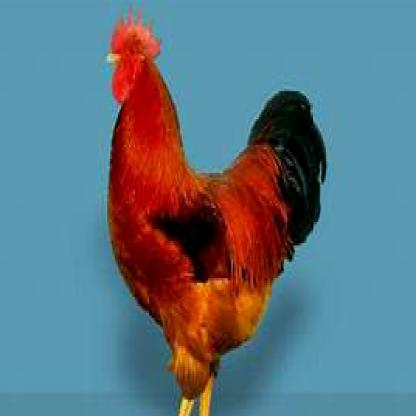chicken: (106, 2, 329, 414)
